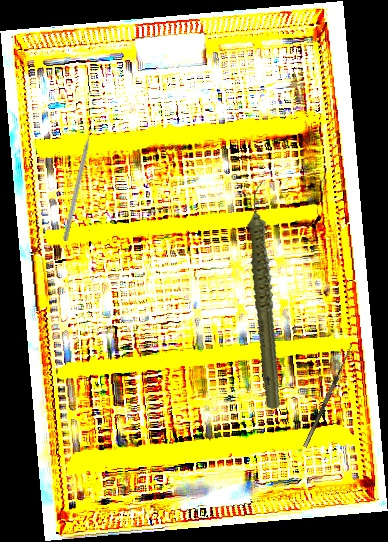Chopper: (62, 122, 101, 243)
Handpiece: (218, 179, 316, 412)
Hook Surgical: (297, 341, 355, 448)
